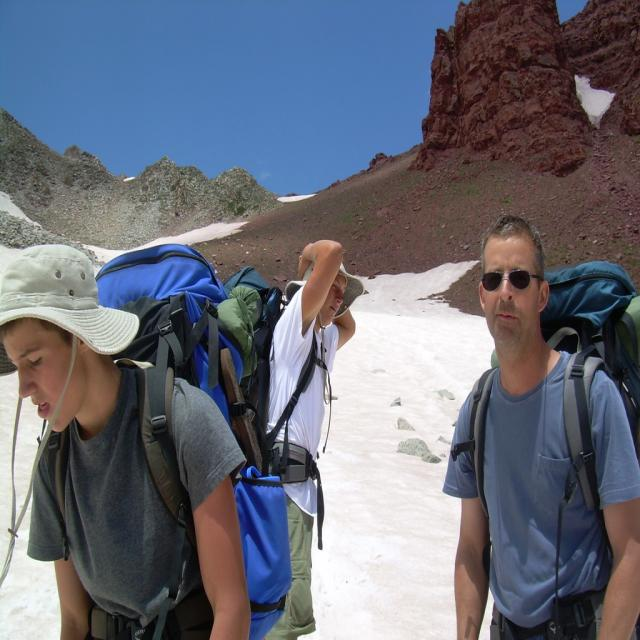backpack: (75, 250, 292, 636), (469, 256, 639, 532), (218, 267, 282, 416)
